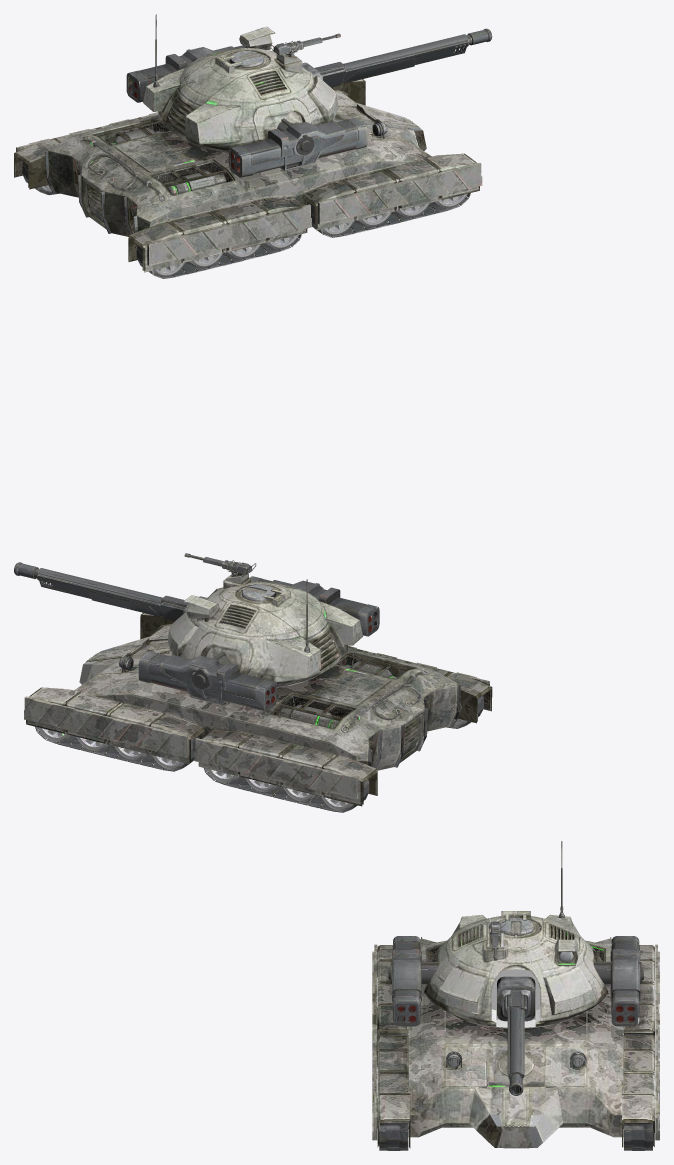
Rendered from SUP_nextg_tank.glb.
3 views of the same model, one above another, from view 1: azimuth 30°, elevation 25°; view 2: azimuth 150°, elevation 25°; view 3: azimuth 270°, elevation 25° (orthographic). The views are drawn at different scales.
Parts seen in each view (by area): view 1: SUP_nextg_tank; view 2: SUP_nextg_tank; view 3: SUP_nextg_tank.
Boxes of the visible parts, box(x1,y1,x2,y2) form: SUP_nextg_tank: box(14, 14, 492, 278); SUP_nextg_tank: box(14, 553, 492, 812); SUP_nextg_tank: box(372, 841, 659, 1150).
Size of the model in its own units: 5.37 by 2.3 by 6.84.
Materials: 2 (1 with a texture image).
